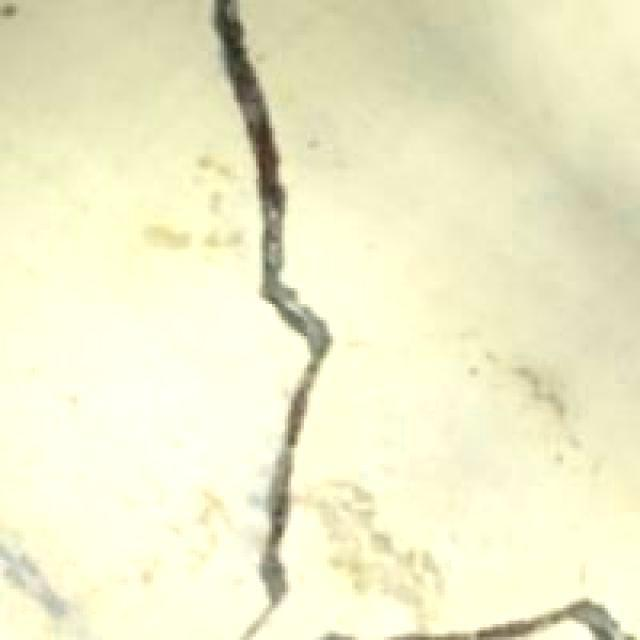crack: (178, 0, 360, 640), (458, 576, 640, 640)
